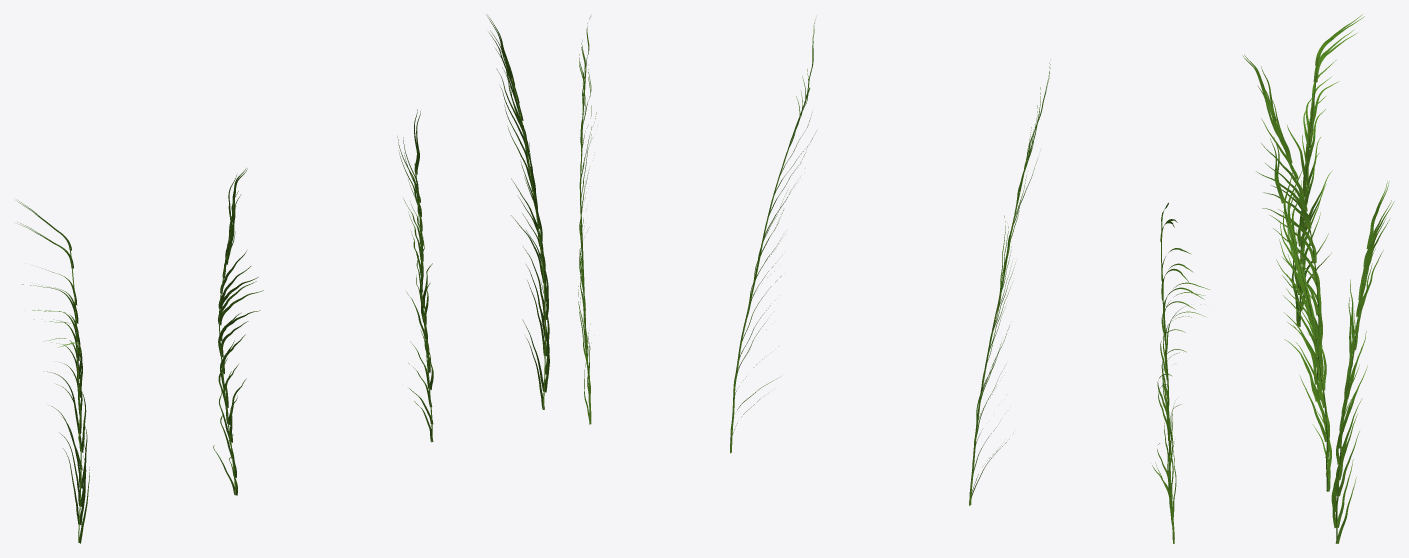
Rendered from plant_42.fbx.
The picture shows the model from 3 angles, left to right: view 1: azimuth 30°, elevation 25°; view 2: azimuth 150°, elevation 25°; view 3: azimuth 270°, elevation 25°; orthographic projection. The views are drawn at different scales.
Parts seen in each view (by area): view 1: polySurface119, polySurface118, polySurface120, polySurface121; view 2: polySurface118, polySurface120, polySurface119, polySurface121; view 3: polySurface121, polySurface119, polySurface120, polySurface118.
Boxes of the visible parts, <box> form: polySurface119: <box>486,14,549,409</box>; polySurface118: <box>17,200,89,543</box>; polySurface120: <box>213,168,263,495</box>; polySurface121: <box>397,109,433,442</box>; polySurface118: <box>1152,202,1209,543</box>; polySurface120: <box>969,63,1050,505</box>; polySurface119: <box>578,16,597,424</box>; polySurface121: <box>730,19,816,453</box>; polySurface121: <box>1270,136,1331,491</box>; polySurface119: <box>1331,180,1394,543</box>; polySurface120: <box>1242,54,1323,401</box>; polySurface118: <box>1287,14,1364,326</box>.
Size of the model in its own units: 9.03 by 6.2 by 2.45.
